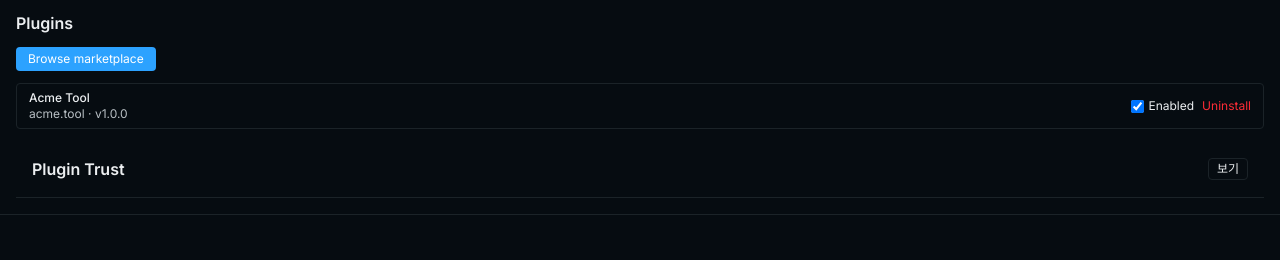
Test: SettingsPlugins › stringifies a non-Error rejection from plugin_enable
The image size is (1280, 260).
expect the text "Acme Tool" is shown: met, box [29,90,90,105]
What coordinates should you click on to do the following:
click the checkbox
I would click on:
 (1138, 106)
Its box is [1132,100,1144,112].
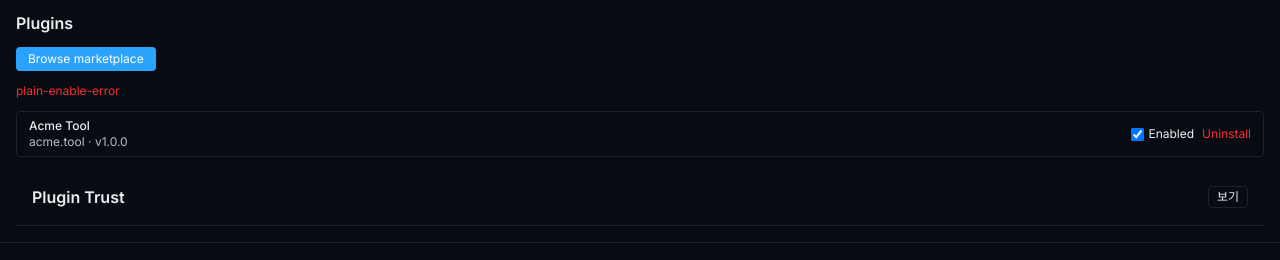
expect the message reads "plain-enable-error": met, box [16,83,120,98]
